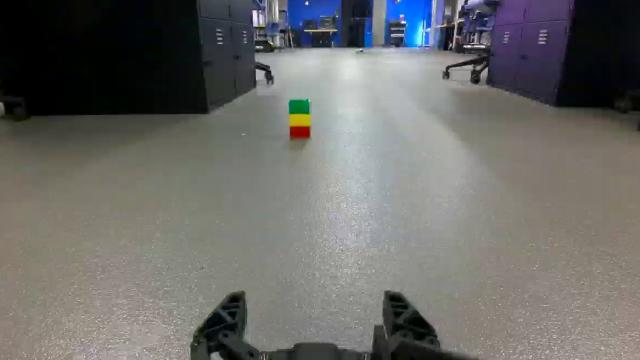lego: (291, 101, 310, 140)
